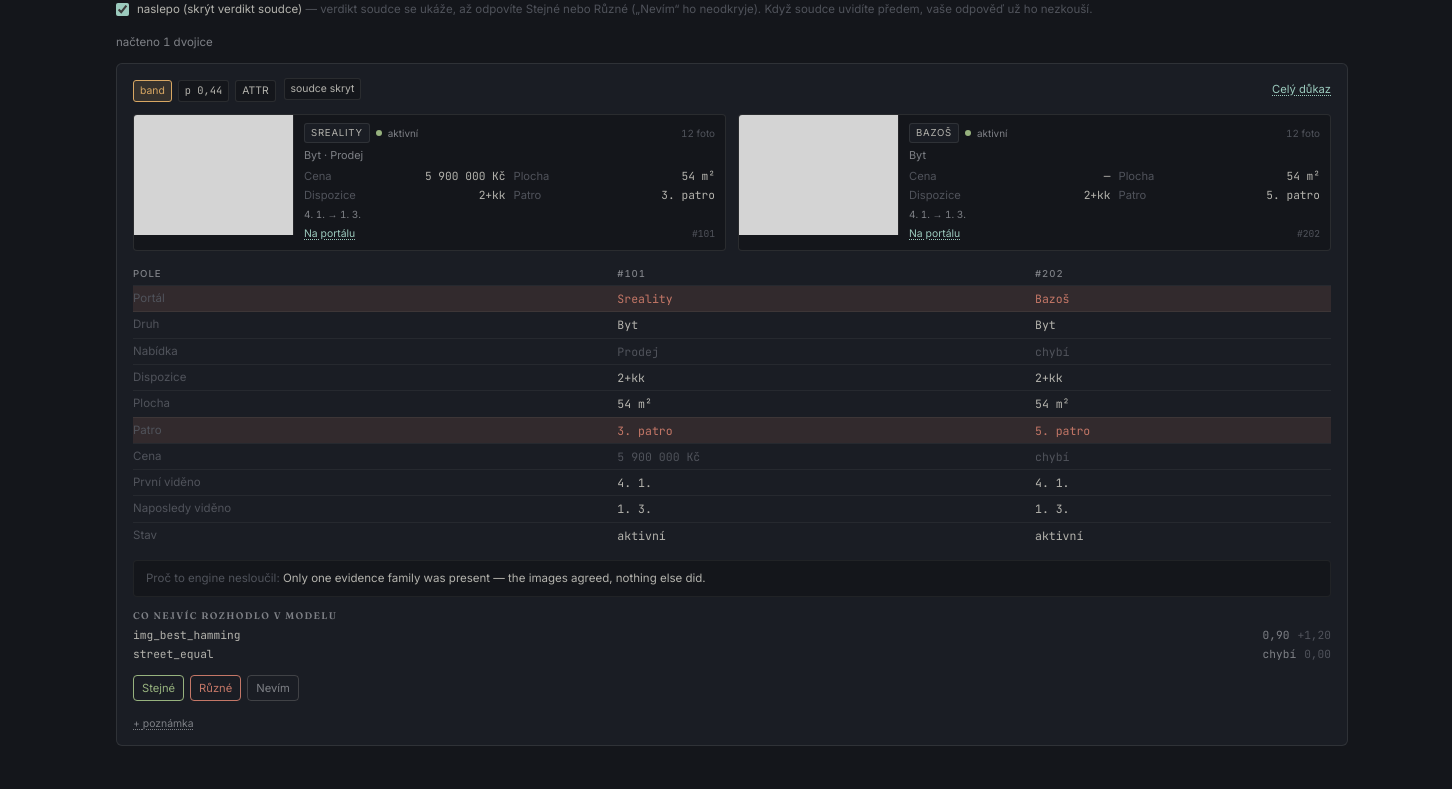
Scenario: <AutodedupResidual> › keeps the note collapsed until the operator asks for it
(page scrolled)
What coordinates should you click on to do the following:
click the button "+ poznámka"
I would click on:
 (163, 724)
Its box is [133,716,194,732].
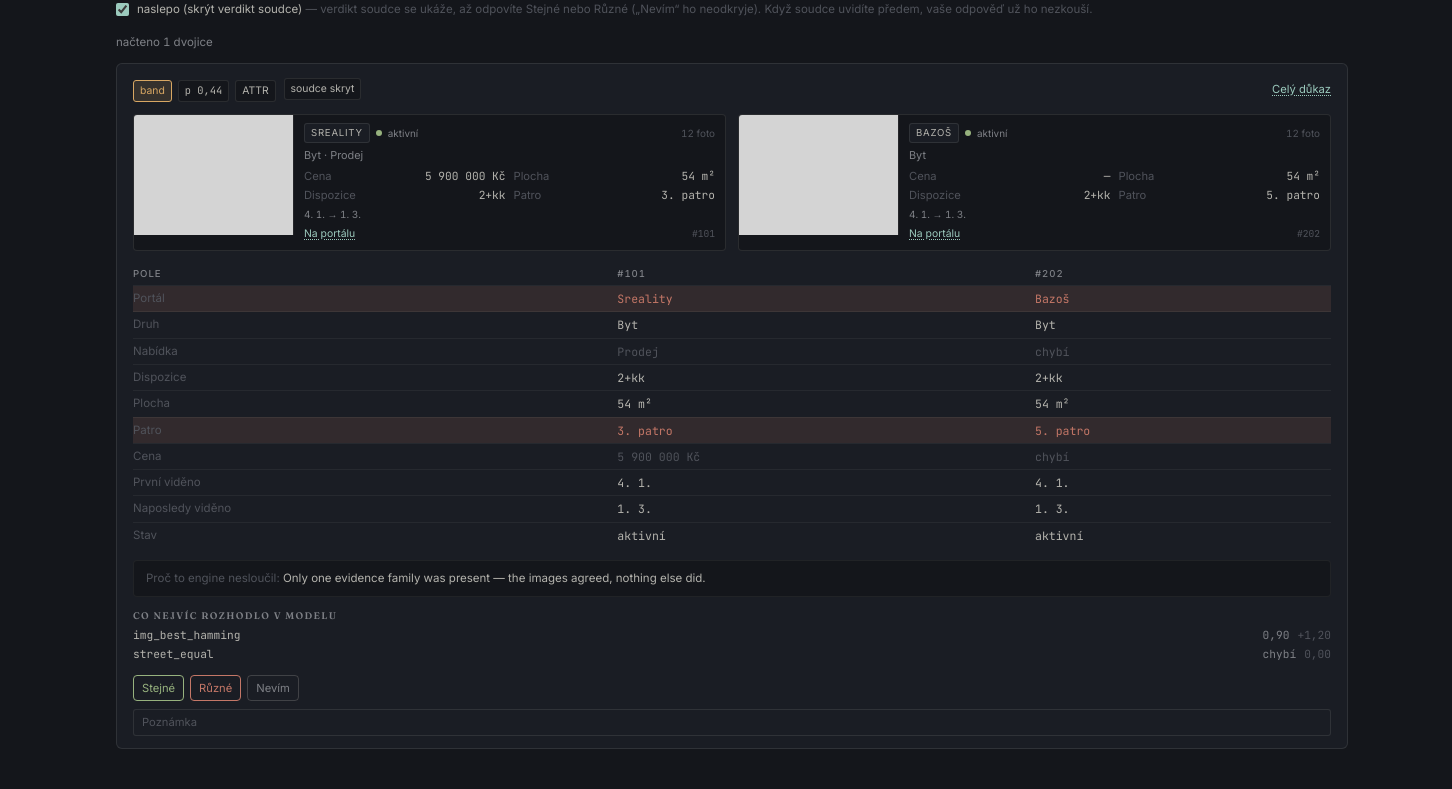
Expected: the field labelled "Poznámka" is shown, [133,709,1331,736]
